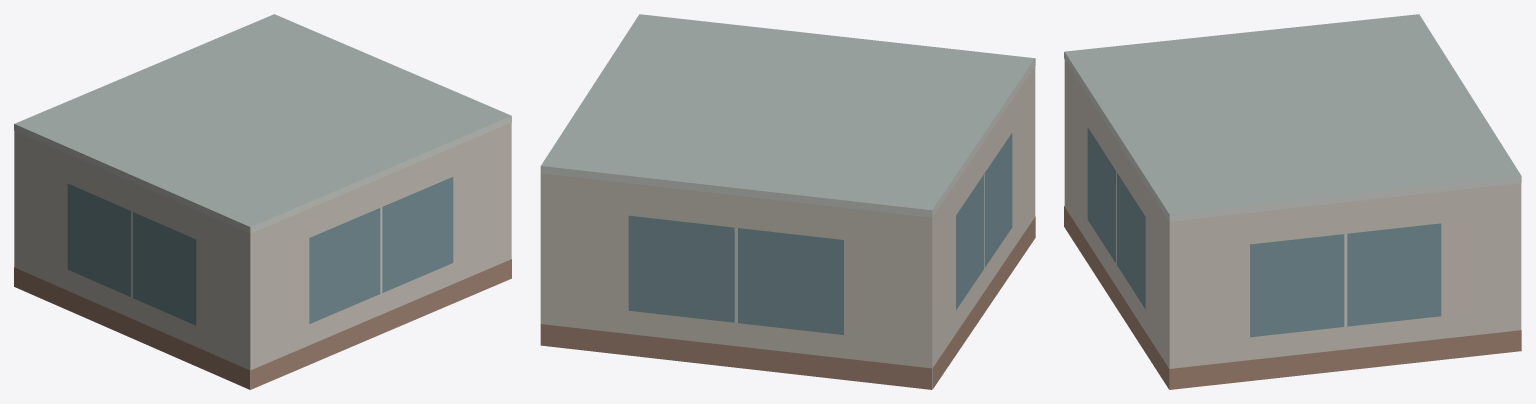
The model's file is survey-upis-32723021.glb.
3 renders of one model, left to right at view 1: azimuth 30°, elevation 25°; view 2: azimuth 150°, elevation 25°; view 3: azimuth 270°, elevation 25°, orthographic. The views are drawn at different scales.
Parts seen in each view (by area): view 1: survey-upis-32723021.tmp; view 2: survey-upis-32723021.tmp; view 3: survey-upis-32723021.tmp.
Boxes of the visible parts, x1=… form: survey-upis-32723021.tmp: x1=14, y1=14, x2=511, y2=389; survey-upis-32723021.tmp: x1=540, y1=14, x2=1035, y2=389; survey-upis-32723021.tmp: x1=1064, y1=14, x2=1521, y2=389.
Size of the model in its own units: 7.49 by 3.05 by 7.22.
